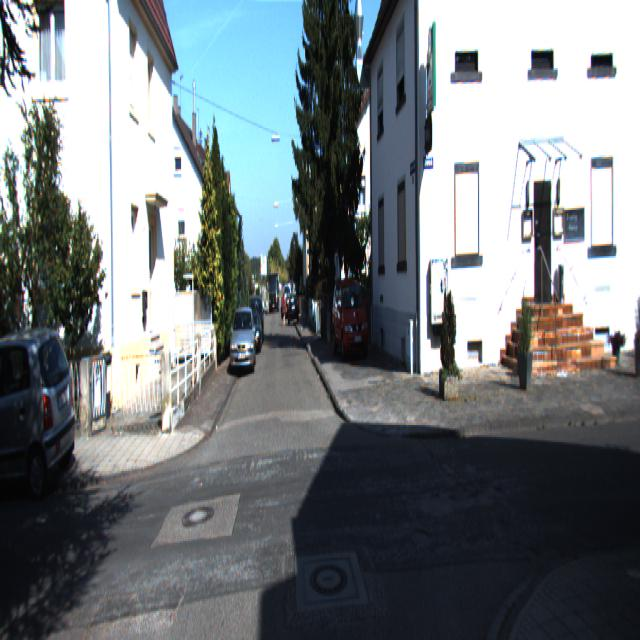Car: (0, 326, 82, 502), (331, 271, 368, 359), (230, 307, 256, 377), (243, 307, 261, 353)
